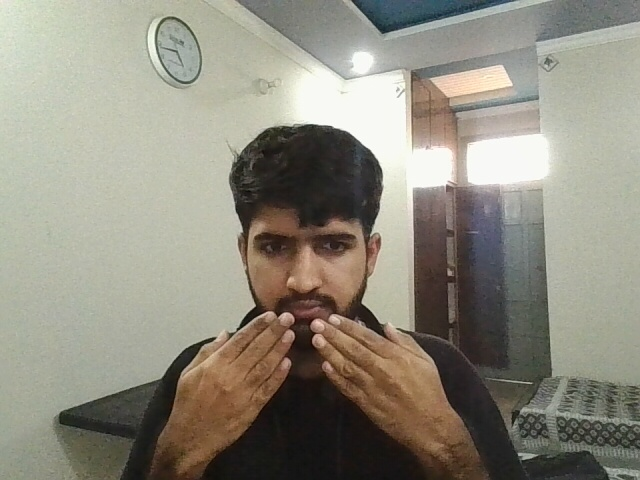Thanks: (135, 303, 495, 462)
